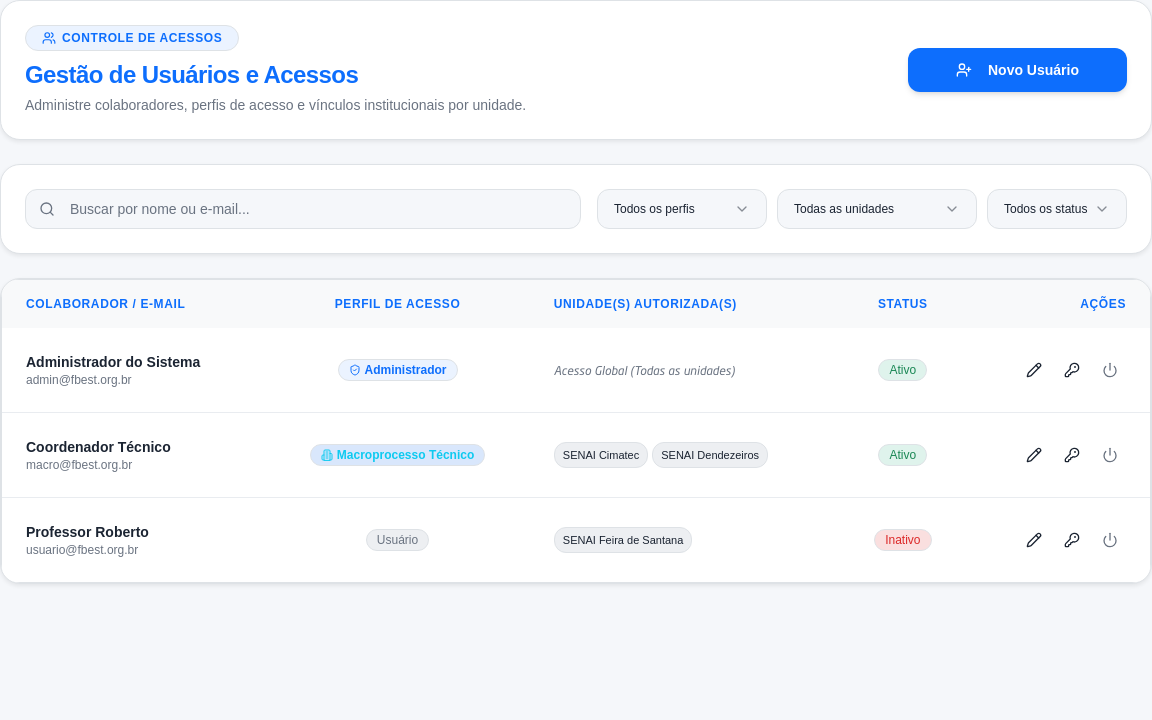
PHASE 6.6 — Gestão de Usuários, Perfis e Acessos no Frontend › 6. Abre modal de edição ao clicar no botão 'Editar Usuário'
Expected: the text "Administrador do Sistema" is shown, [26,354,200,370]
Click the button titled "Editar Usuário". click: (1034, 370)
box: [1018,354,1050,386]
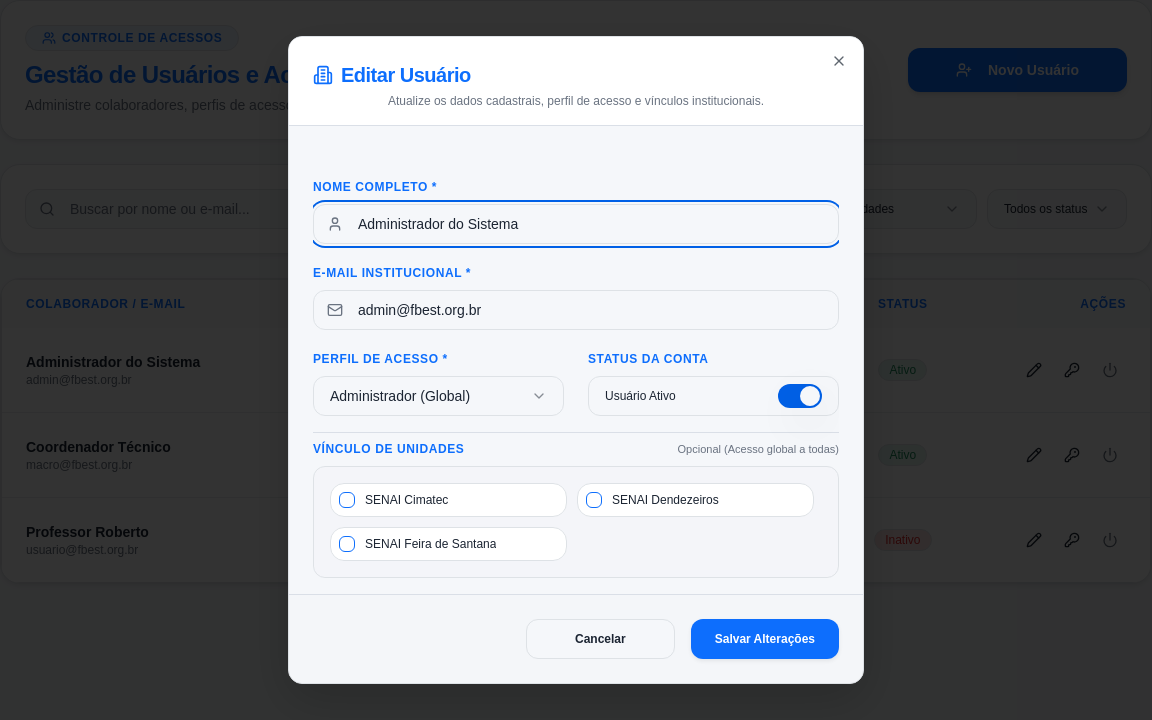
Result: the heading "Editar Usuário" is shown at [313,64,471,86]
